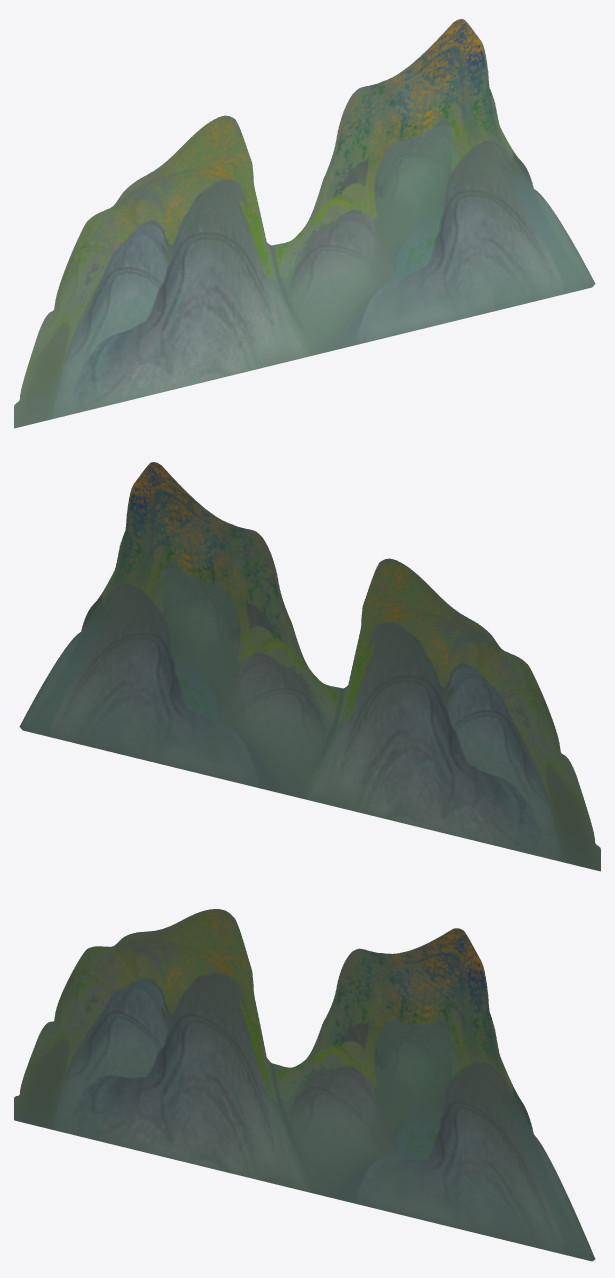
Rendered from outside_model_04_mountain005.FBX.
3 renders of one model, top to bottom at view 1: azimuth 30°, elevation 25°; view 2: azimuth 150°, elevation 25°; view 3: azimuth 330°, elevation 25°, orthographic.
Visible parts, largest first — view 1: outside_model_03_mountain_005; view 2: outside_model_03_mountain_005; view 3: outside_model_03_mountain_005.
Boxes of the visible parts, x1,y1,x2,y2 form: outside_model_03_mountain_005: [14, 19, 595, 428]; outside_model_03_mountain_005: [19, 462, 600, 871]; outside_model_03_mountain_005: [14, 909, 595, 1261].
Bounding box in the file's own units: 8.56 × 4.22 × 3.72e-07.
1 material, 1 textured.
